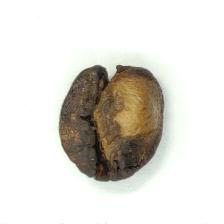NG: (58, 64, 162, 182)
